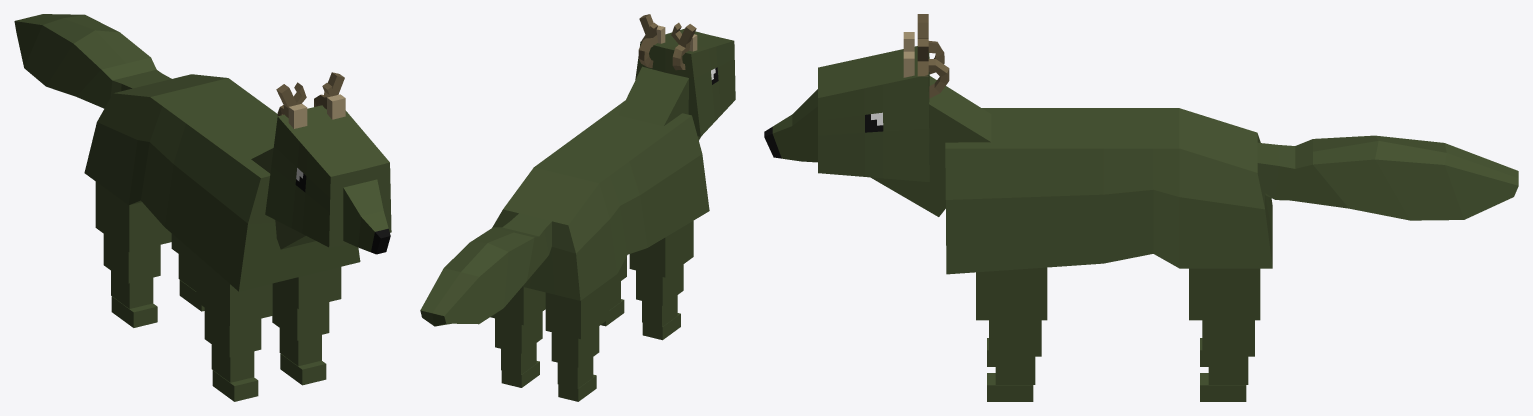
File: FailedSpirit.fbx
3 renders of one model, left to right at view 1: azimuth 30°, elevation 25°; view 2: azimuth 150°, elevation 25°; view 3: azimuth 270°, elevation 25°, orthographic. The views are drawn at different scales.
Visible parts, largest first — view 1: Cube.001; view 2: Cube.001; view 3: Cube.001.
Boxes of the visible parts, box(x1,y1,x2,y2) form: Cube.001: box(14, 14, 391, 401); Cube.001: box(420, 14, 735, 401); Cube.001: box(764, 14, 1518, 401).
Bounding box in the file's own units: 0.9667 × 2.53 × 4.92.
Materials: 3 (3 with a texture image).
